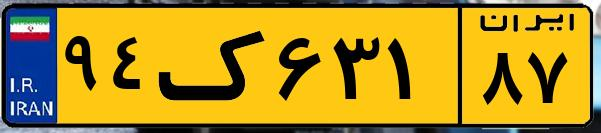1: (385, 28, 445, 110)
3: (330, 28, 385, 110)
4: (110, 28, 158, 98)
6: (270, 28, 330, 110)
7: (525, 38, 570, 115)
8: (475, 38, 525, 113)
9: (57, 26, 110, 100)
ک: (158, 12, 270, 120)
